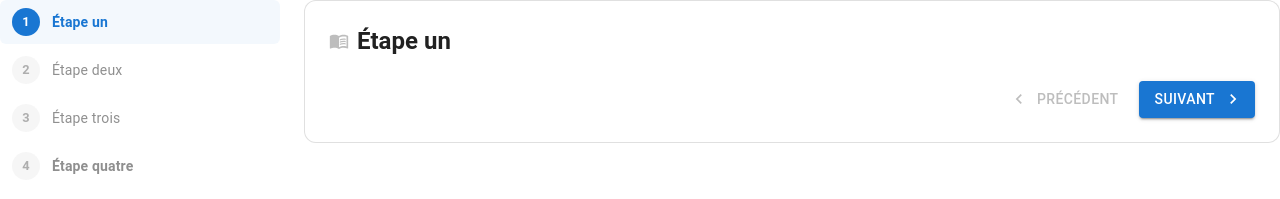
Test case: ModuleStepper › URL des étapes › ne navigue pas au clic sur une étape verrouillée
This screenshot has width=1280, height=199.
What coordinates should you click on to do the following:
click the link "4 Étape quatre"
I would click on:
 (73, 166)
Its box is [12, 152, 133, 180].
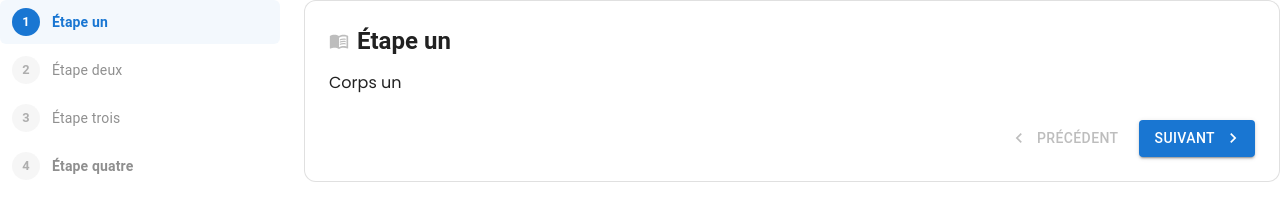
Now the text "Corps un" is shown, box [329, 71, 402, 94]
